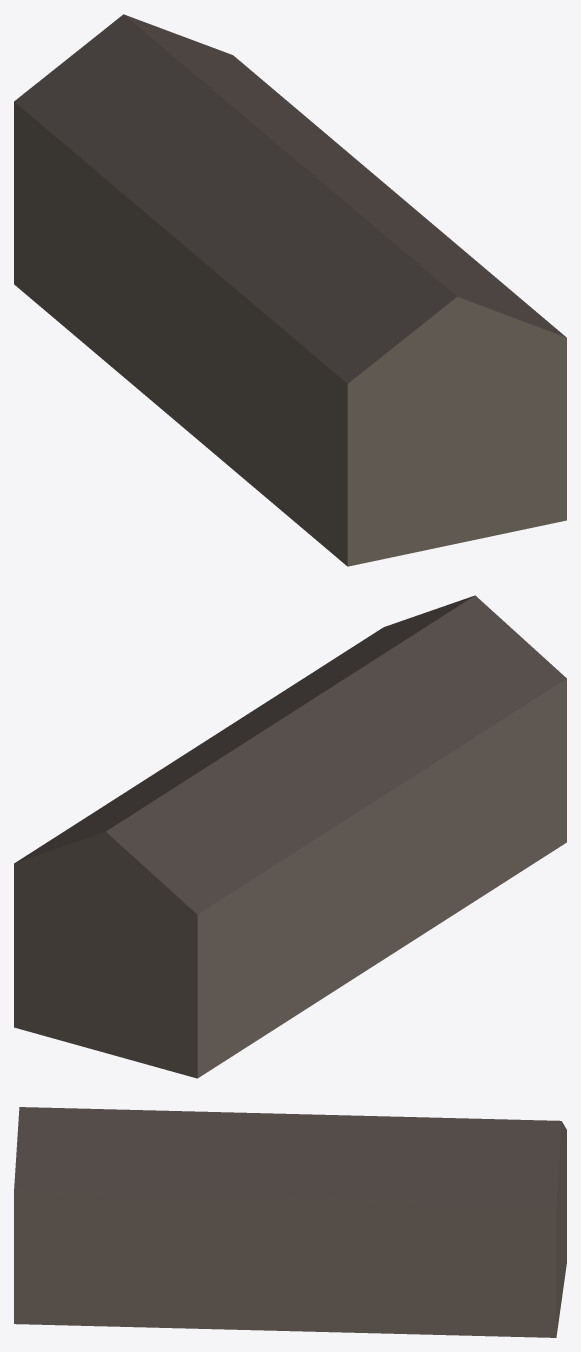
The picture shows the model from 3 angles, top to bottom: view 1: azimuth 30°, elevation 25°; view 2: azimuth 150°, elevation 25°; view 3: azimuth 270°, elevation 25°; orthographic projection. The views are drawn at different scales.
Visible parts, largest first — view 1: HP-w858824347; view 2: HP-w858824347; view 3: HP-w858824347.
Boxes of the visible parts, x1,y1,x2,y2 form: HP-w858824347: [14, 14, 566, 566]; HP-w858824347: [14, 595, 566, 1078]; HP-w858824347: [14, 1107, 566, 1337].
Bounding box in the file's own units: 8.62 × 8.11 × 22.63.
